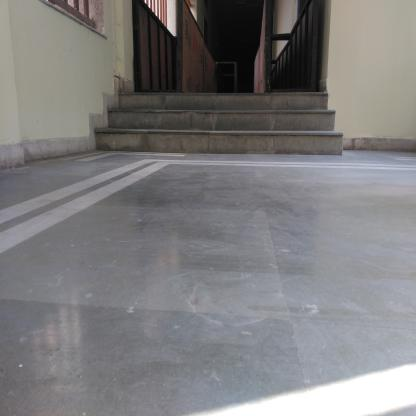stairs: (122, 90, 326, 160)
